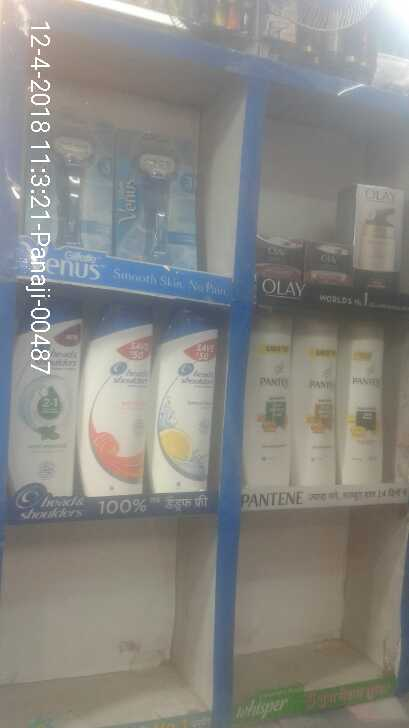venus: (114, 127, 197, 270), (26, 120, 112, 254)
